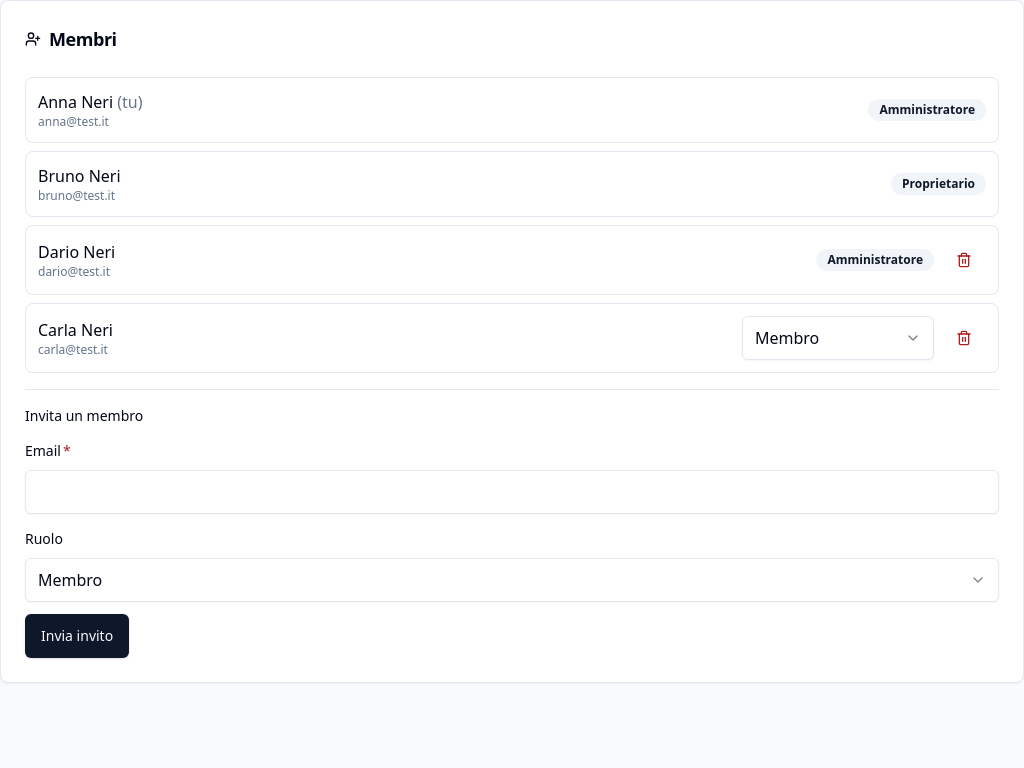
Test: MembersCard — cambio di ruolo › l'admin vede il select solo sulle righe member e può solo promuovere
Click the dropdown labelled "Membro" in the row of "carla@test.it" at (838,338), box top-left (742, 316), bottom-right (934, 360)
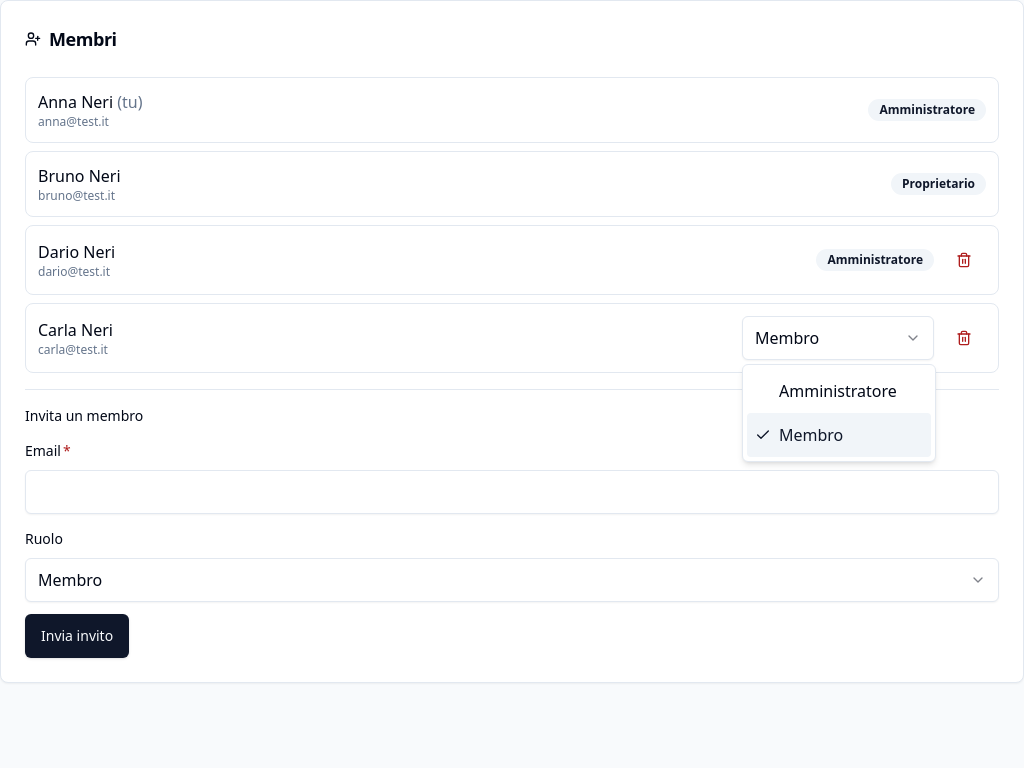
Now the options read "Amministratore", "Membro", in this order, box top-left (779, 380), bottom-right (897, 402); top-left (747, 413), bottom-right (931, 457)
